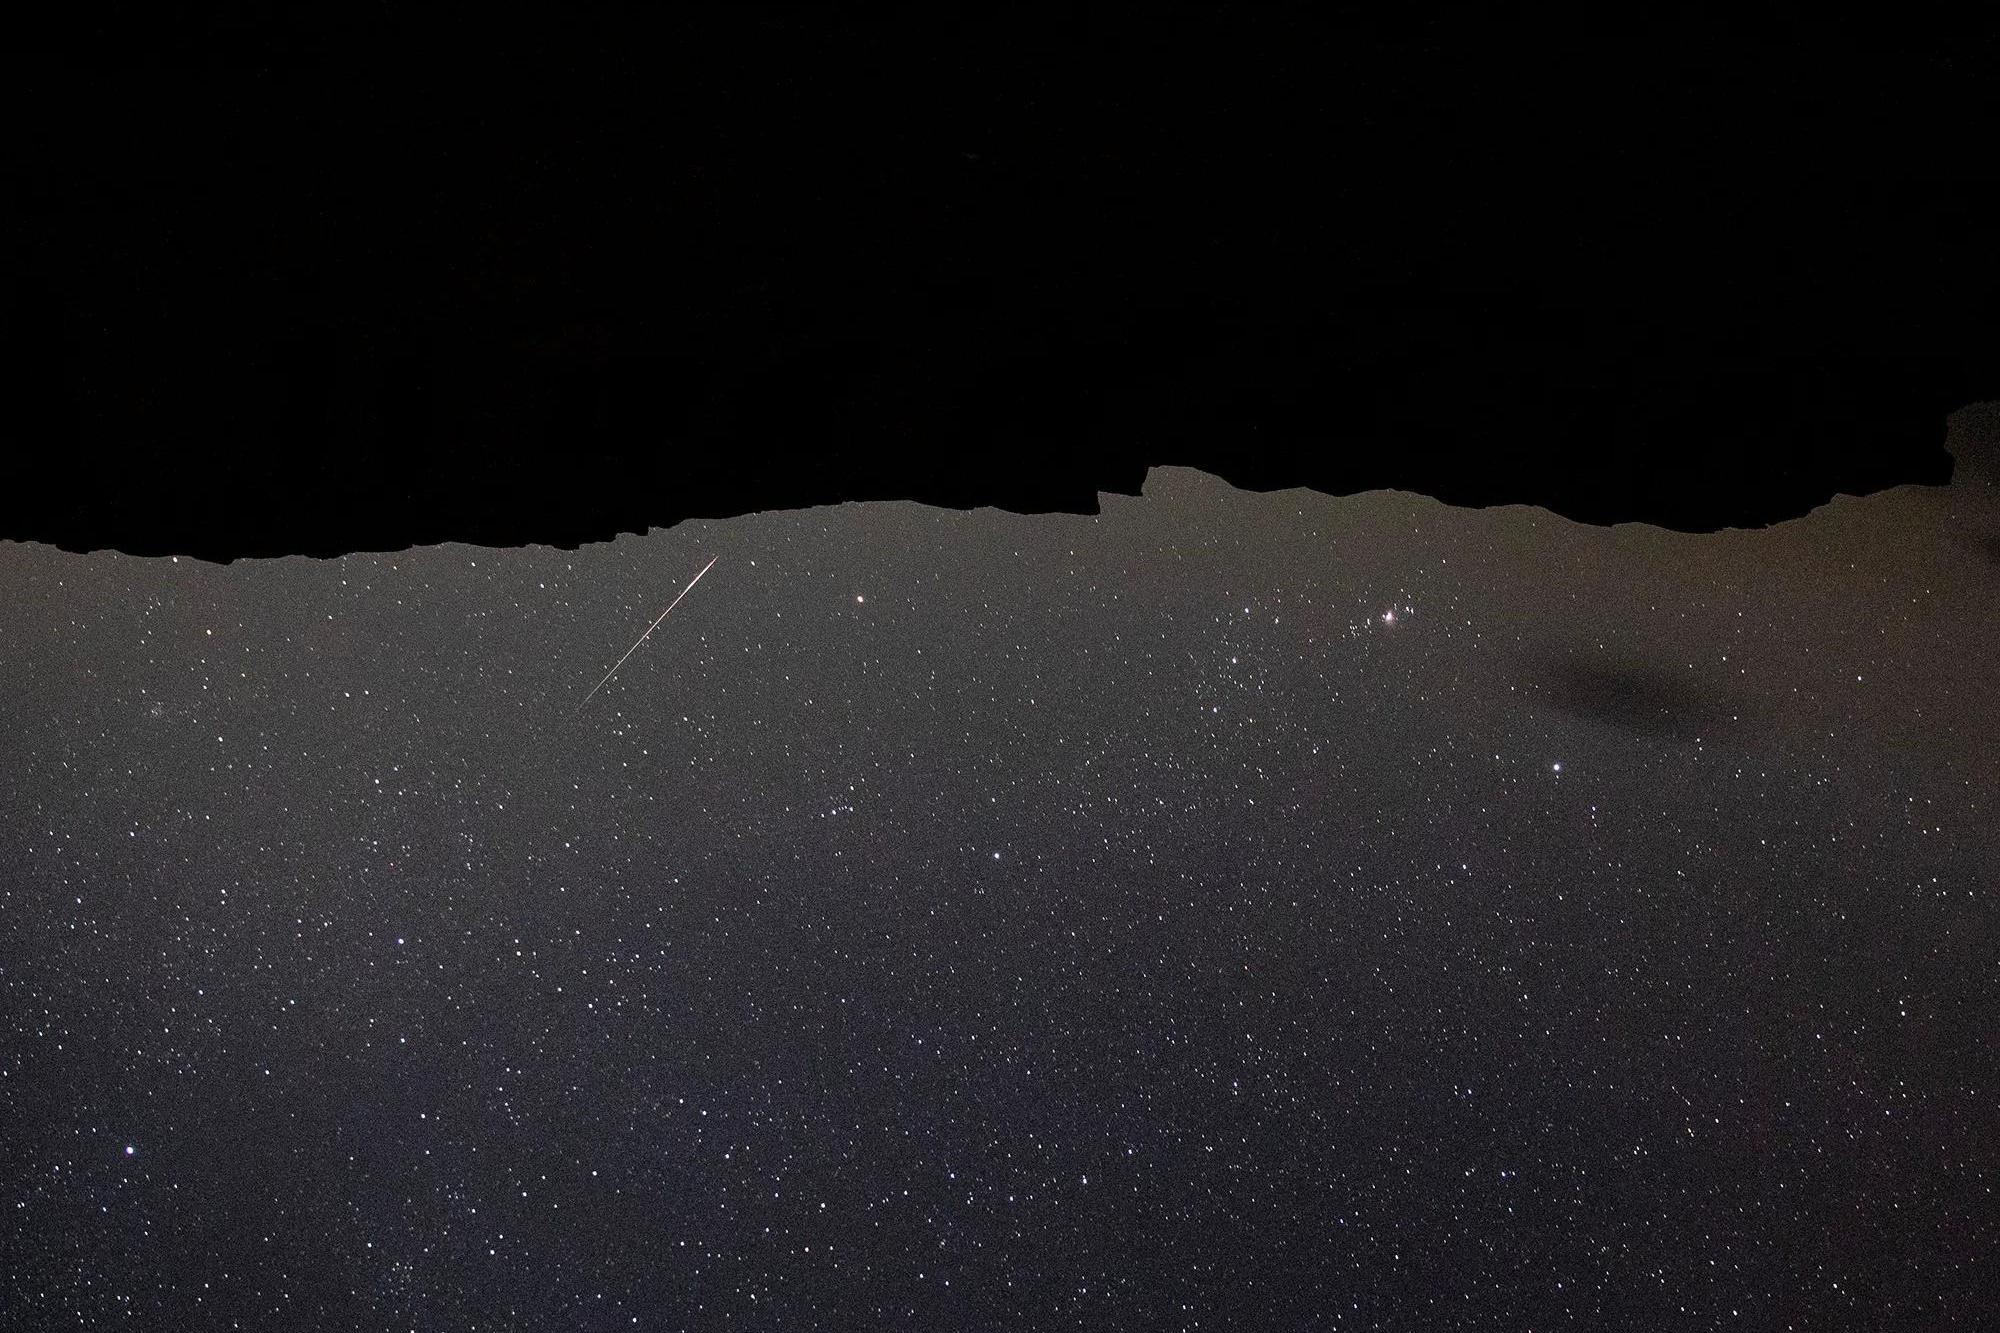meteorite: (531, 536, 757, 730)
